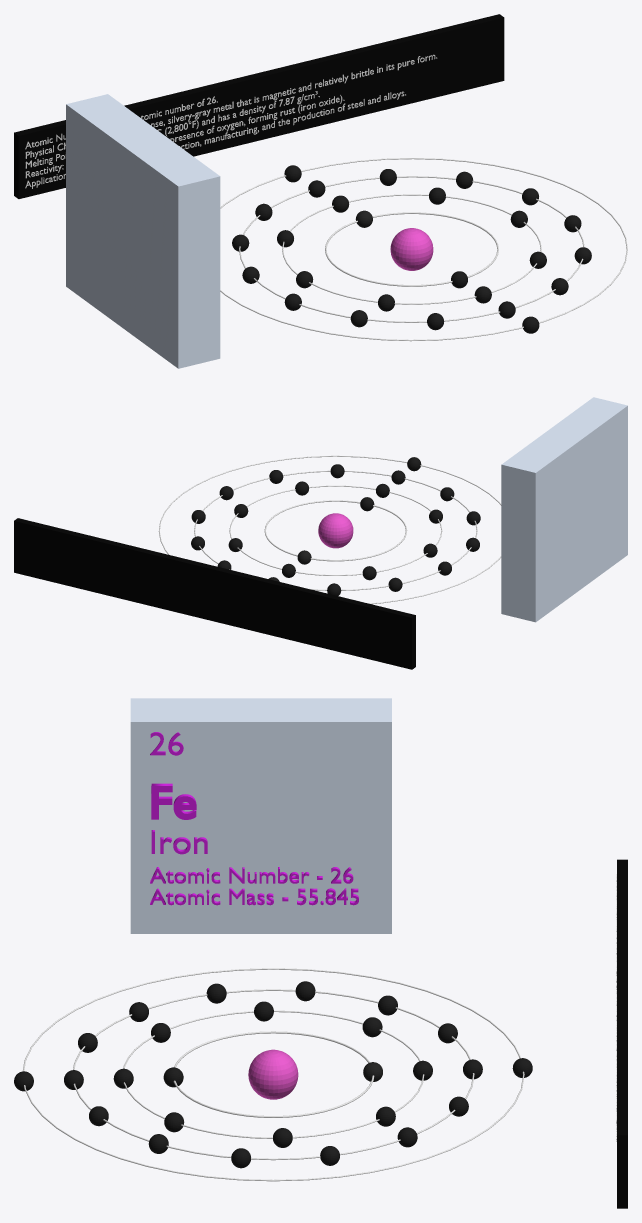
File: Iron.fbx
The picture shows the model from 3 angles, top to bottom: view 1: azimuth 30°, elevation 25°; view 2: azimuth 150°, elevation 25°; view 3: azimuth 270°, elevation 25°; orthographic projection. The views are drawn at different scales.
Parts seen in each view (by area): view 1: Cube, Cube.001, Text.003, BézierCircle.003, Sphere.003, BézierCircle.002, BézierCircle.001, BézierCircle; view 2: Cube.001, Cube, Sphere.003, BézierCircle.003, BézierCircle.002, BézierCircle.001, BézierCircle; view 3: Cube, Cube.001, Text.002, BézierCircle.003, Sphere.003, BézierCircle.002, BézierCircle.001, BézierCircle, Text, Text.001.
Boxes of the visible parts, x1=… form: Cube: x1=66, y1=94, x2=220, y2=368; Cube.001: x1=14, y1=14, x2=504, y2=198; Text.003: x1=25, y1=54, x2=437, y2=188; BézierCircle.003: x1=220, y1=158, x2=627, y2=341; Sphere.003: x1=390, y1=228, x2=433, y2=270; BézierCircle.002: x1=239, y1=176, x2=584, y2=322; BézierCircle.001: x1=282, y1=194, x2=541, y2=304; BézierCircle: x1=325, y1=212, x2=498, y2=286; Cube.001: x1=14, y1=518, x2=415, y2=669; Cube: x1=501, y1=397, x2=627, y2=622; Sphere.003: x1=318, y1=513, x2=353, y2=548; BézierCircle.003: x1=158, y1=455, x2=501, y2=604; BézierCircle.002: x1=194, y1=470, x2=477, y2=590; BézierCircle.001: x1=229, y1=485, x2=442, y2=575; BézierCircle: x1=264, y1=500, x2=407, y2=561; Cube: x1=130, y1=698, x2=391, y2=933; Cube.001: x1=617, y1=859, x2=627, y2=1208; Text.002: x1=150, y1=867, x2=358, y2=905; BézierCircle.003: x1=23, y1=968, x2=524, y2=1181; Sphere.003: x1=248, y1=1049, x2=298, y2=1099; BézierCircle.002: x1=73, y1=989, x2=474, y2=1160; BézierCircle.001: x1=123, y1=1010, x2=424, y2=1138; BézierCircle: x1=173, y1=1031, x2=374, y2=1117; Text: x1=151, y1=783, x2=196, y2=819; Text.001: x1=150, y1=732, x2=207, y2=854.
Bounding box in the file's own units: 1435 × 511 × 1226.
